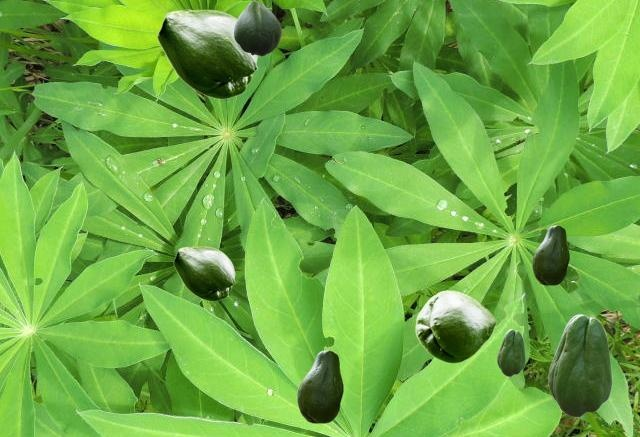sayote: (157, 9, 257, 98), (548, 314, 611, 416), (415, 290, 495, 362), (173, 246, 234, 300), (297, 350, 342, 422), (234, 1, 280, 55), (532, 225, 568, 284), (497, 329, 524, 375)
